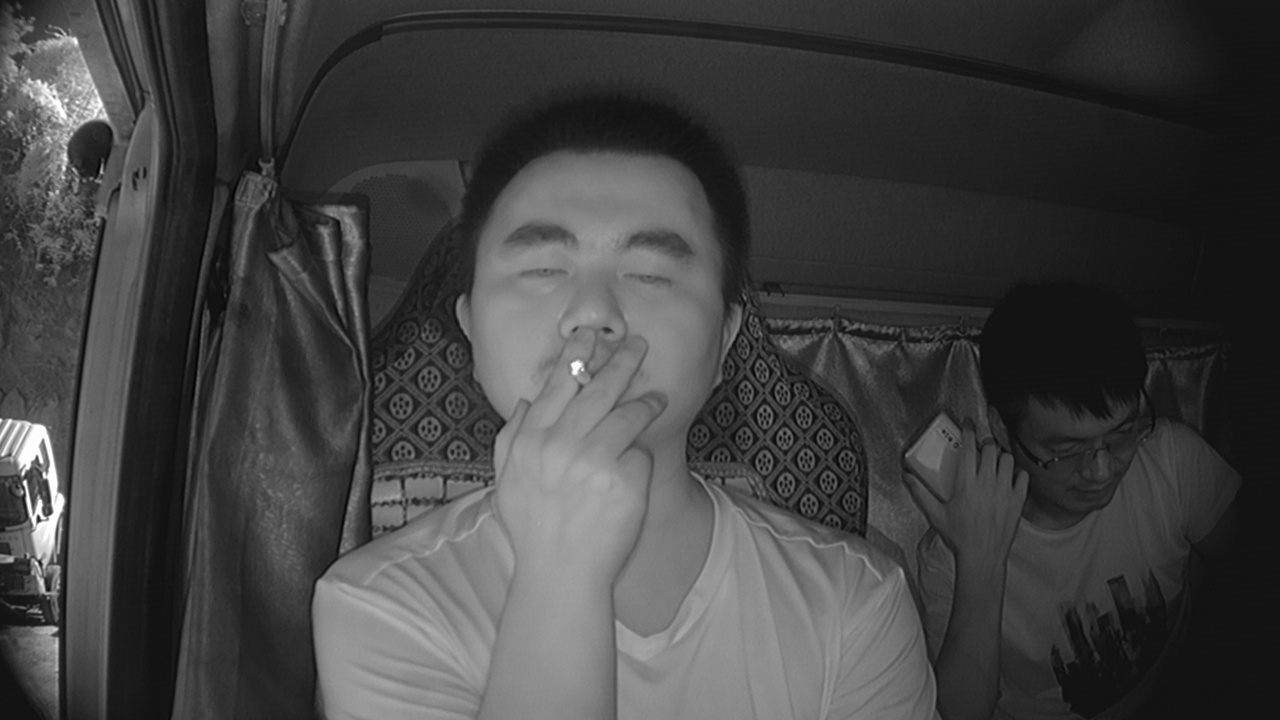hand: (490, 339, 682, 549)
